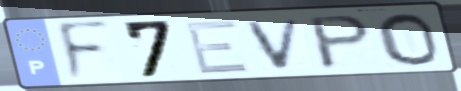7: (120, 19, 176, 81)
E: (182, 18, 253, 76)
F: (54, 18, 113, 86)
O: (373, 12, 443, 67)
P: (306, 12, 374, 72)
V: (243, 17, 305, 72)
